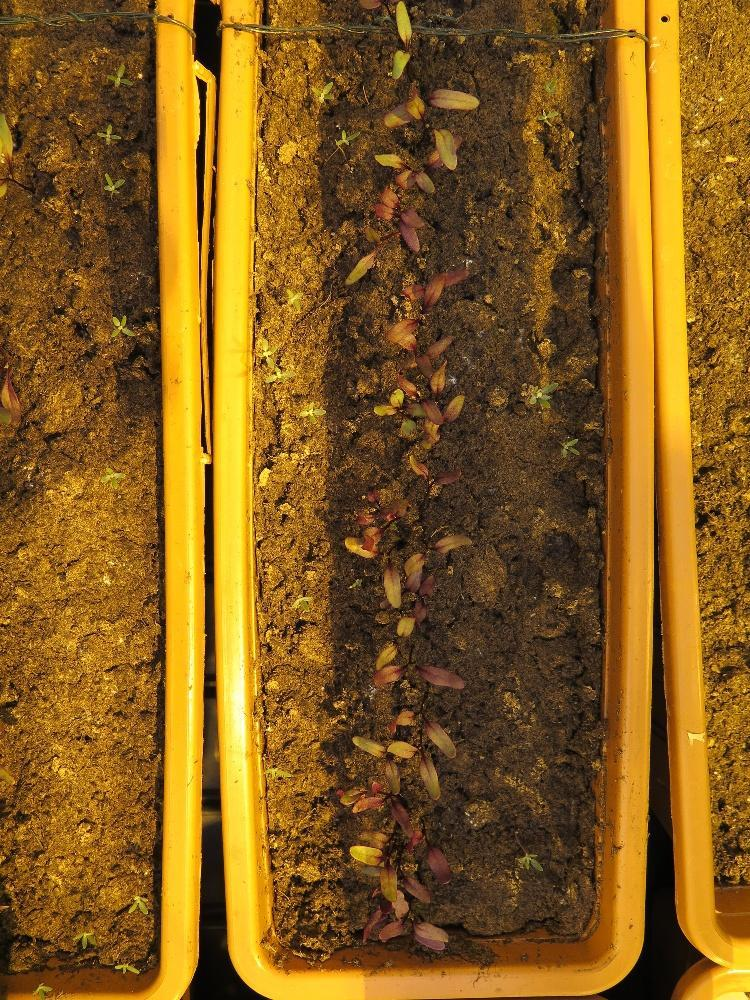weed: (524, 379, 559, 410), (297, 397, 327, 425), (105, 61, 132, 89), (108, 311, 134, 339), (515, 849, 544, 874), (98, 463, 125, 489), (308, 77, 335, 103), (260, 761, 292, 782), (290, 587, 314, 614), (101, 166, 124, 194), (70, 927, 96, 951), (533, 102, 559, 126), (126, 889, 148, 917), (333, 124, 361, 146), (95, 121, 121, 144), (558, 433, 581, 459), (283, 285, 302, 313), (113, 958, 139, 976)
